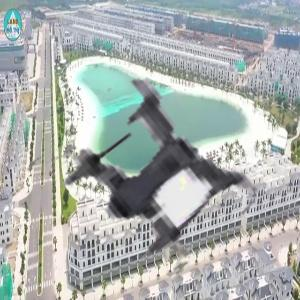drone: (40, 65, 265, 290)
